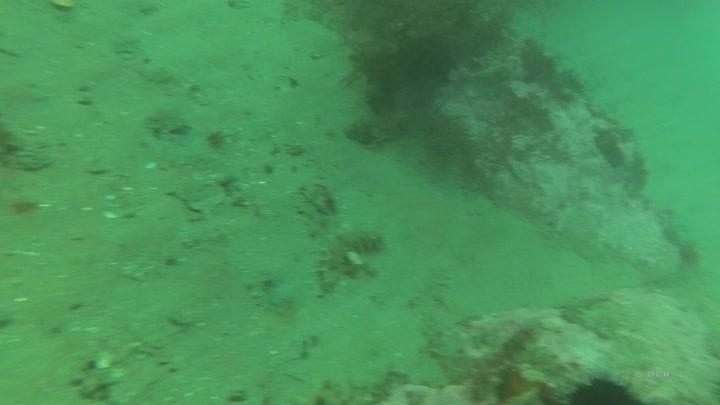echinus: (562, 371, 641, 405)
holothurian: (311, 222, 385, 294)
